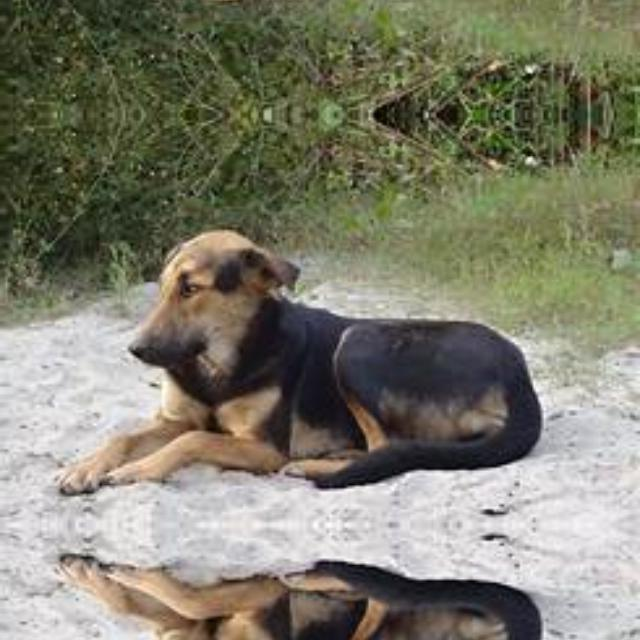dog: (40, 236, 552, 524), (40, 524, 552, 640)
